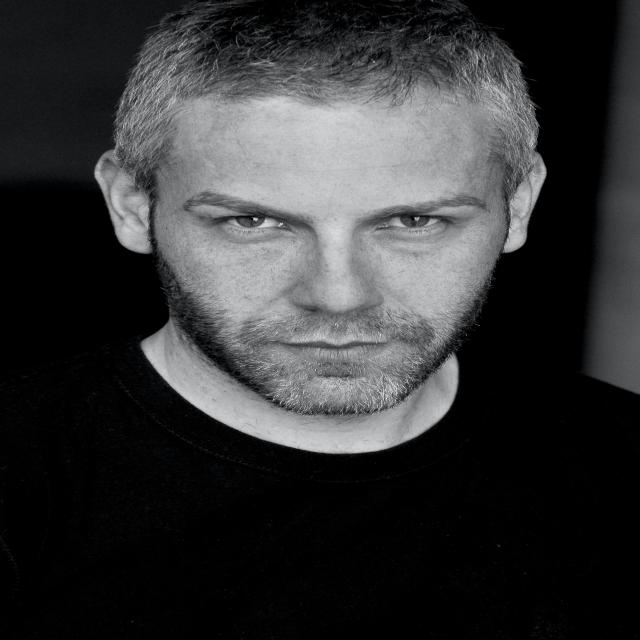adult: (62, 6, 639, 640)
